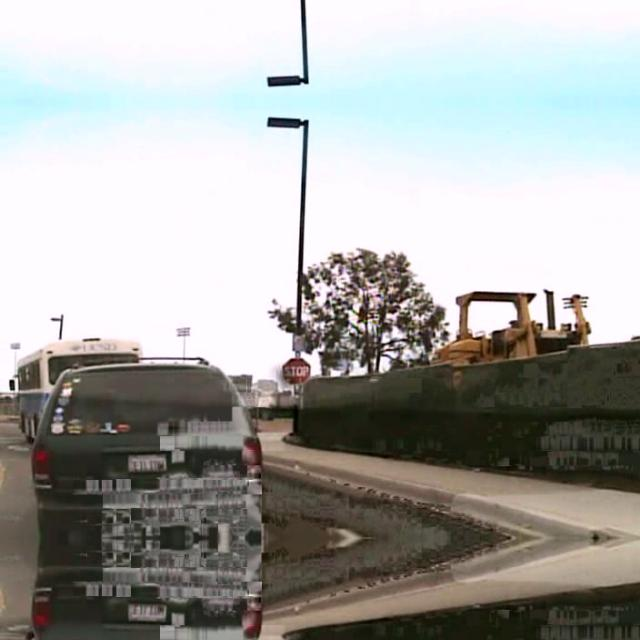stop: (280, 356, 310, 384)
